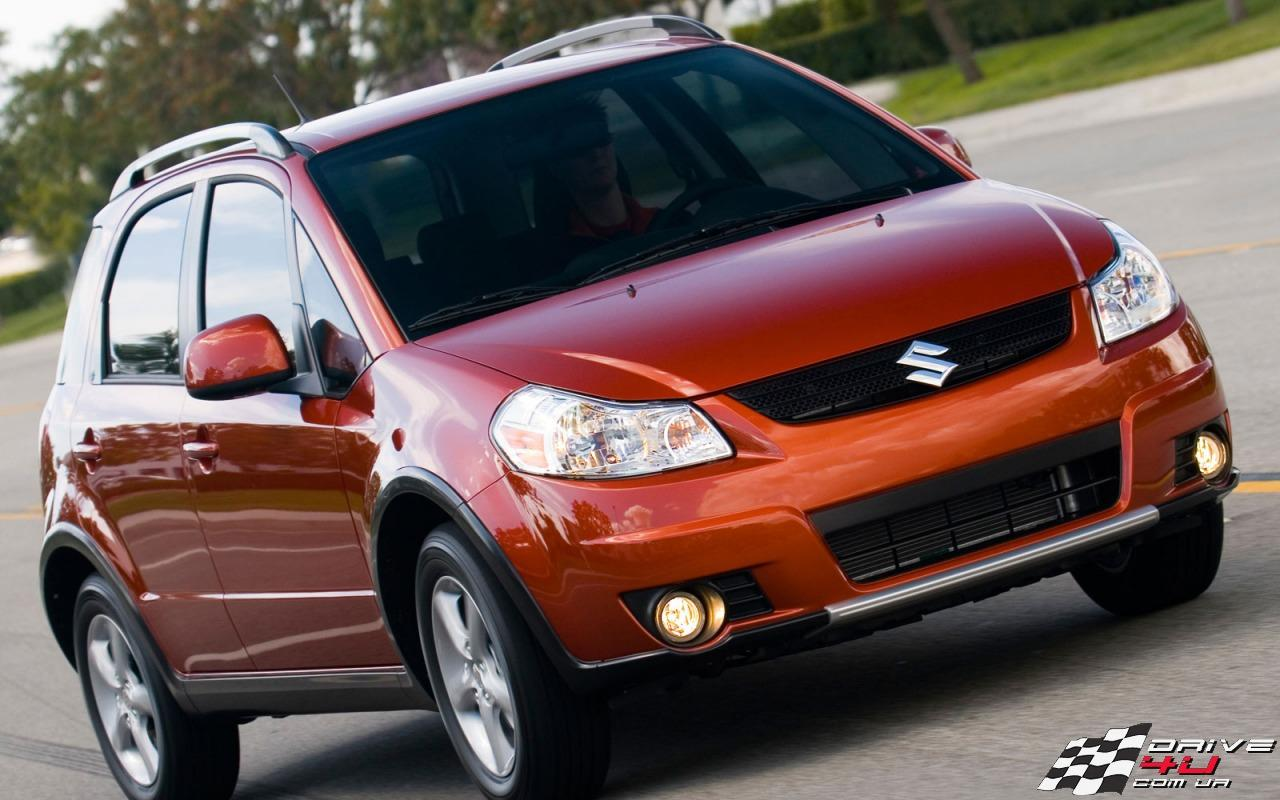Car: (1, 1, 1280, 800)
